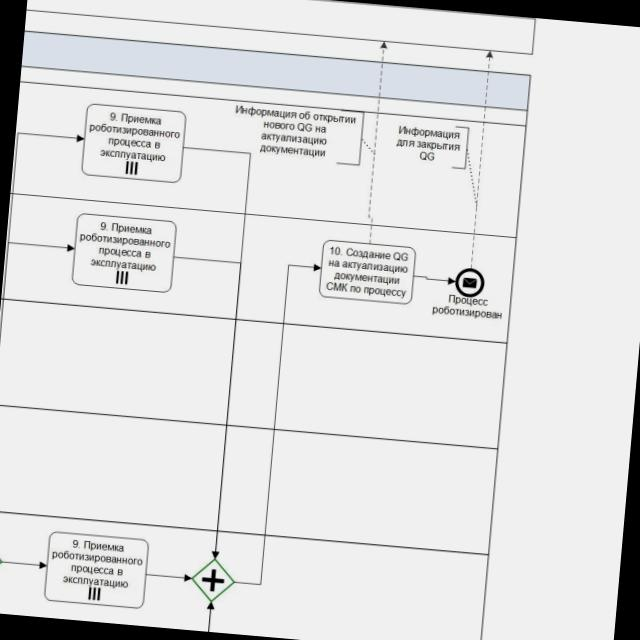arrow: (148, 146, 260, 558), (235, 258, 321, 589), (360, 41, 394, 244), (465, 50, 495, 267), (145, 567, 191, 583), (9, 242, 74, 251), (415, 276, 454, 285), (3, 561, 46, 568)
circle: (455, 268, 484, 297)
diamond: (192, 559, 234, 601)
rectangle: (72, 214, 176, 292), (82, 104, 186, 181), (45, 532, 148, 608), (320, 241, 415, 304)
text_region: (224, 102, 360, 162), (392, 120, 466, 165)
